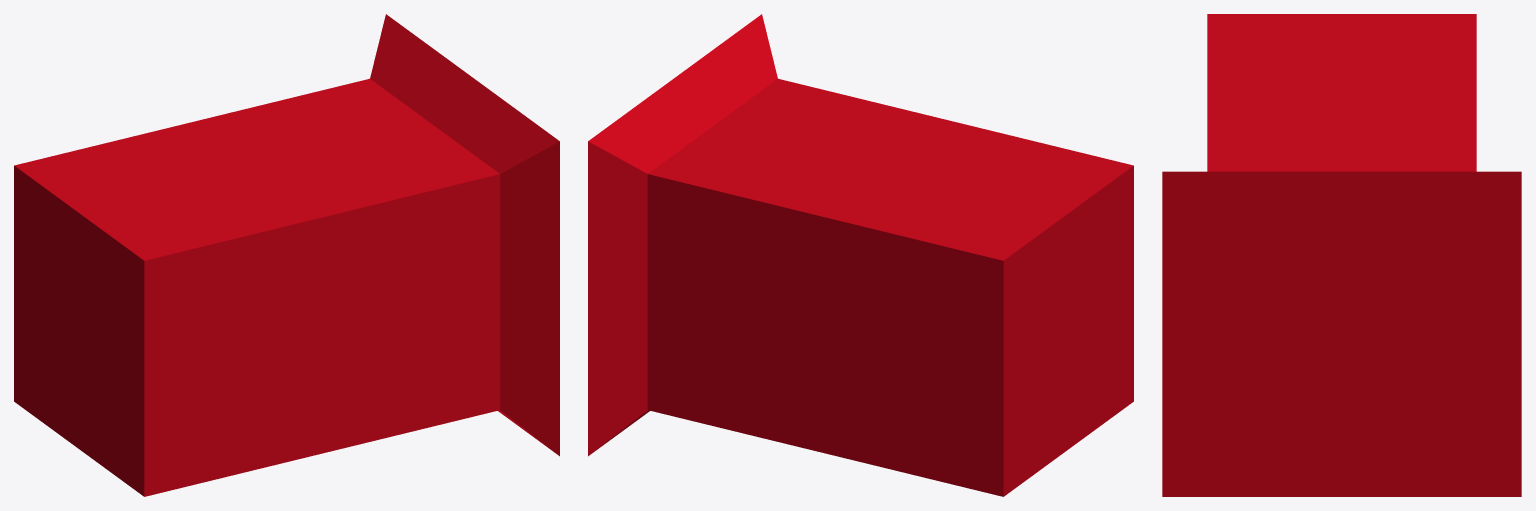
File: UCX_vent_segm_wall_connection.fbx
The picture shows the model from 3 angles, left to right: view 1: azimuth 30°, elevation 25°; view 2: azimuth 150°, elevation 25°; view 3: azimuth 270°, elevation 25°; orthographic projection. The views are drawn at different scales.
Parts seen in each view (by area): view 1: UCX_vent_segm_wall_connection; view 2: UCX_vent_segm_wall_connection; view 3: UCX_vent_segm_wall_connection.
Boxes of the visible parts, x1,y1,x2,y2 form: UCX_vent_segm_wall_connection: (14, 14, 559, 496); UCX_vent_segm_wall_connection: (588, 14, 1133, 496); UCX_vent_segm_wall_connection: (1162, 14, 1521, 496).
Size of the model in its own units: 0.5001 by 0.3826 by 0.3826.
